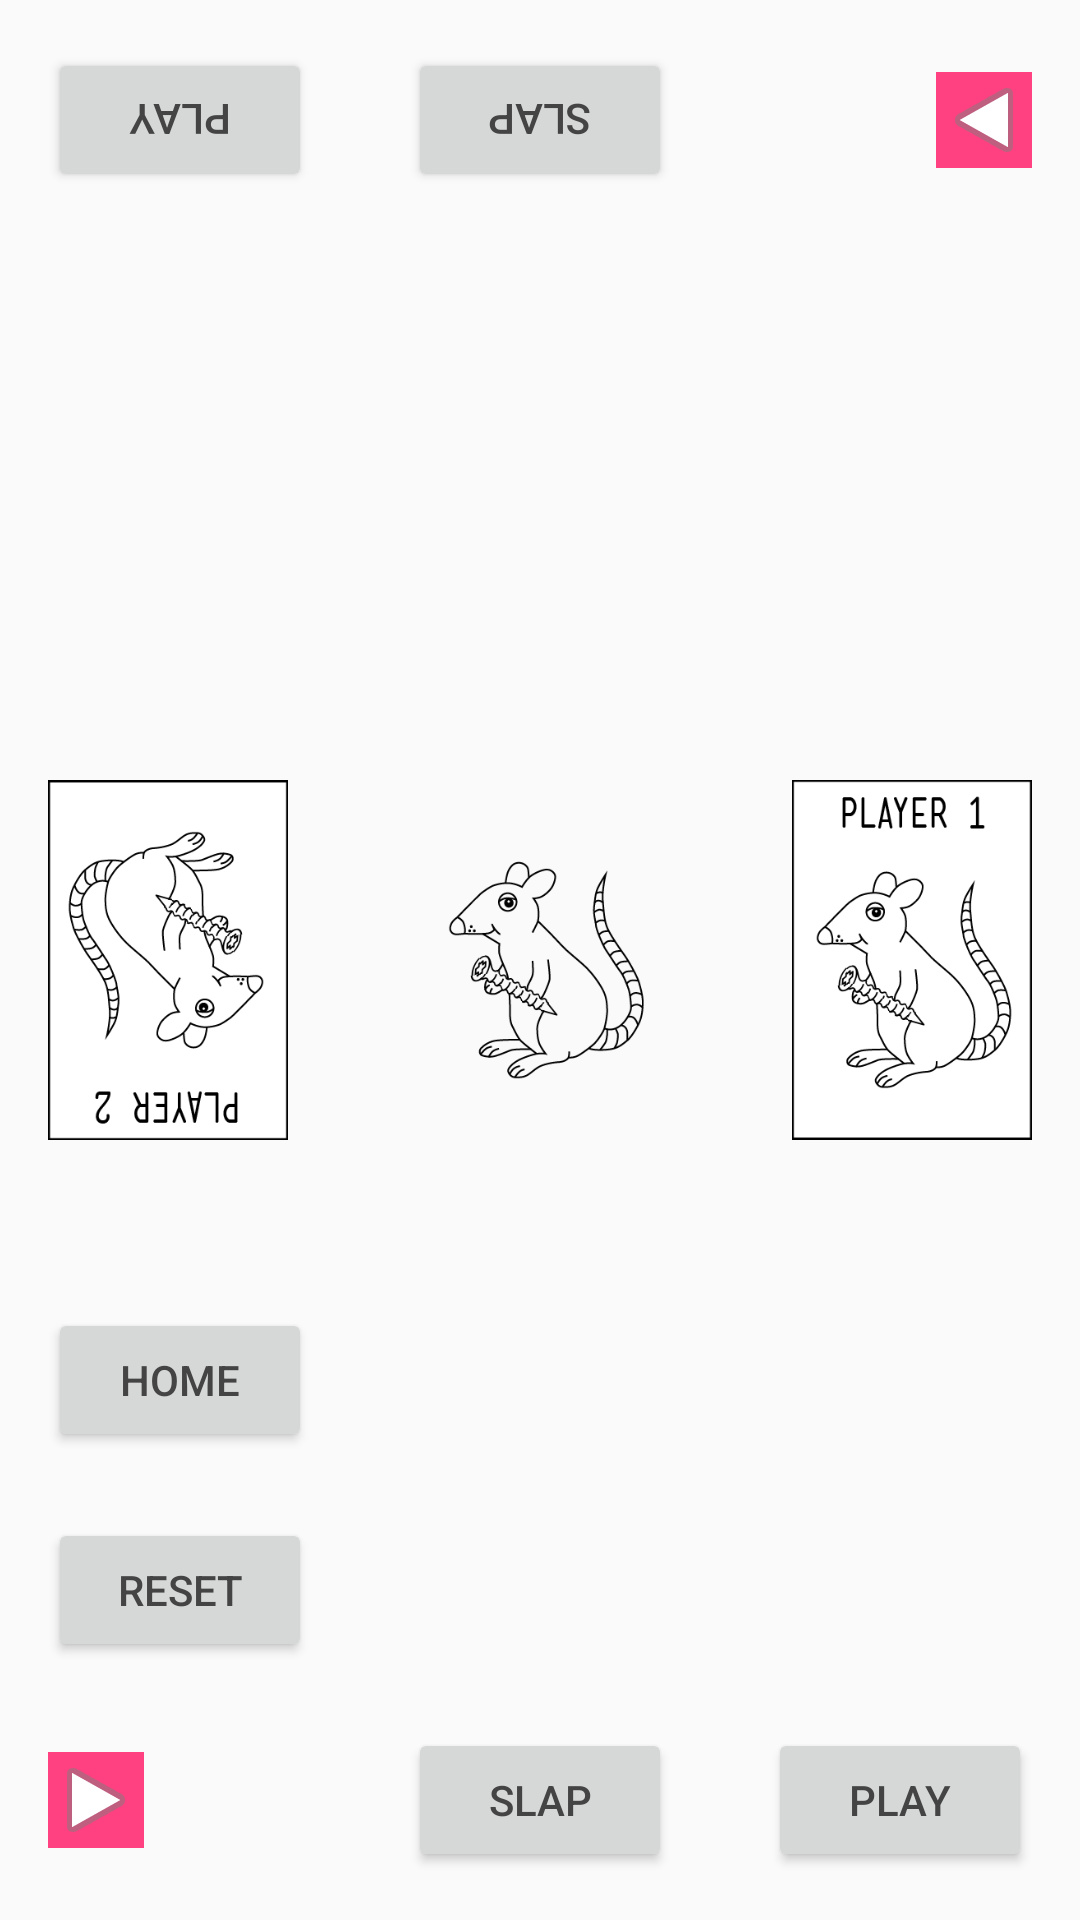

Where to tap for icons on this 1080×1920 app screen, as (x=x, y=y):
rat: (x=546, y=970)
